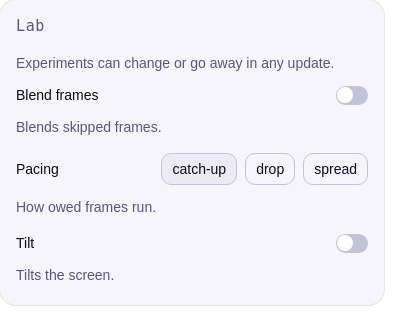
Test case: turns a two-value experiment on and resets it
Click the switch named "Blend frames" in the row of "Blend frames" at point(352, 95), box [336, 86, 368, 105]
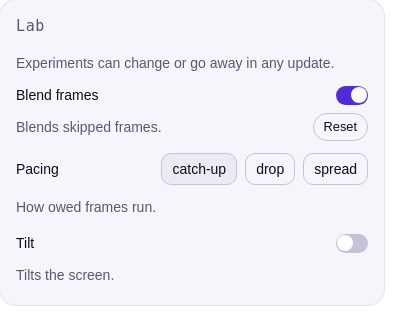
Check: the switch named "Blend frames" in the row of "Blend frames" is checked, box [336, 86, 368, 105]
Click the button "Reset" at point(340, 127), box [313, 113, 368, 141]
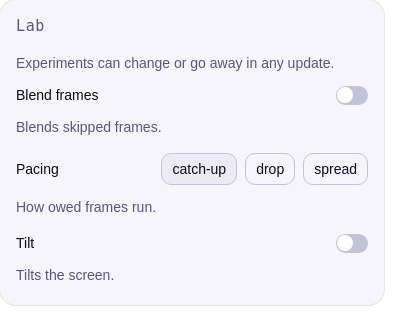
Check: the button "Reset" is gone
